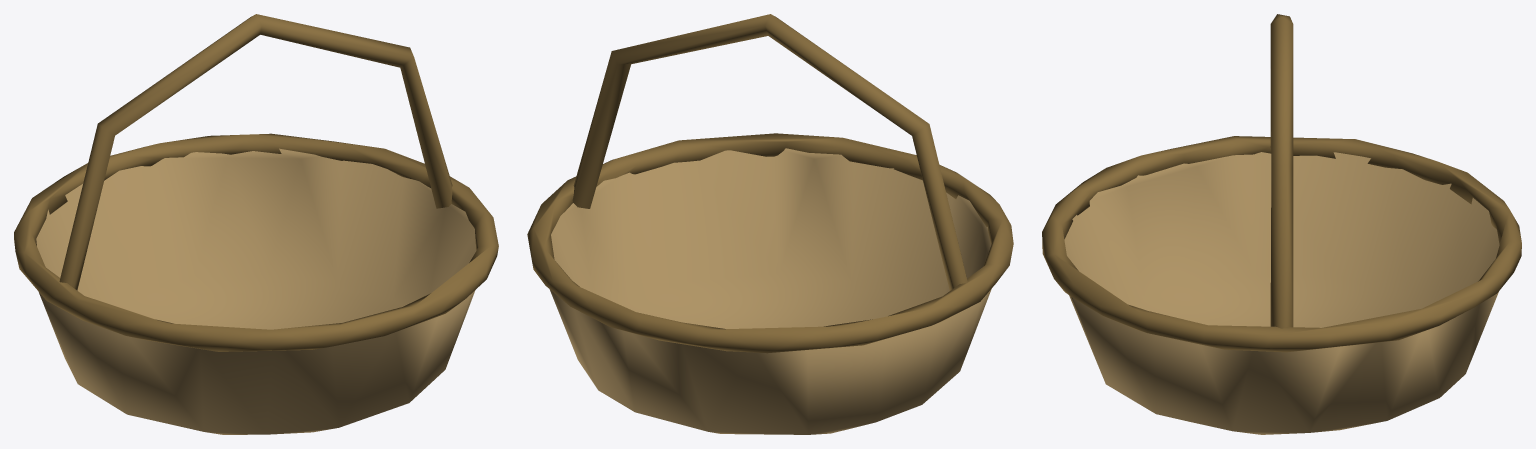
File: ro_tre.glb
The picture shows the model from 3 angles, left to right: view 1: azimuth 30°, elevation 25°; view 2: azimuth 150°, elevation 25°; view 3: azimuth 270°, elevation 25°; orthographic projection.
Parts seen in each view (by area): view 1: ro_tre; view 2: ro_tre; view 3: ro_tre.
Boxes of the visible parts, x1,y1,x2,y2 form: ro_tre: [14, 14, 498, 434]; ro_tre: [527, 14, 1013, 434]; ro_tre: [1042, 14, 1521, 434].
Bounding box in the file's own units: 0.2534 × 0.206 × 0.2533.
